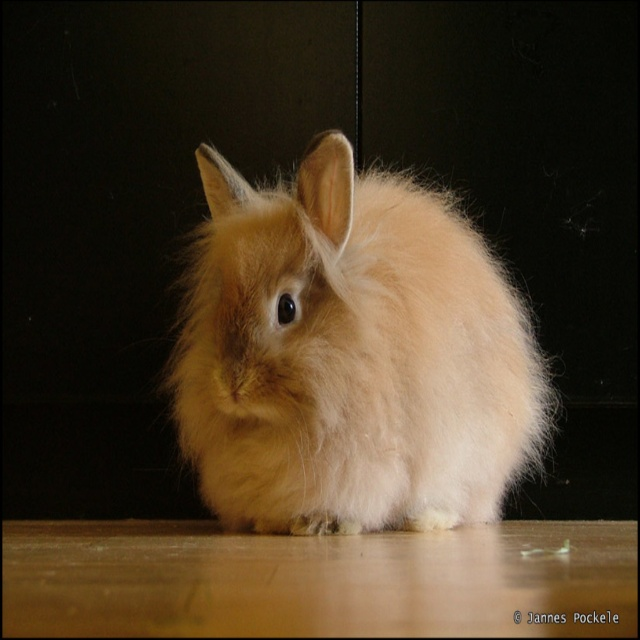Rabbit: (157, 127, 563, 547)
